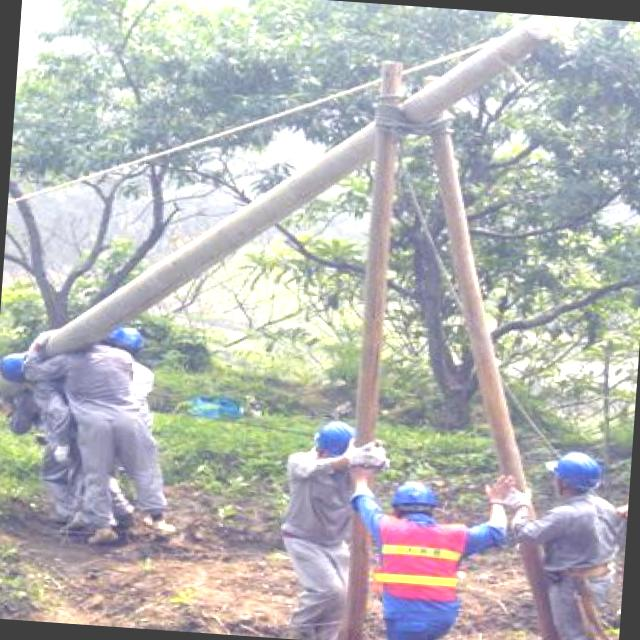helmet: (540, 448, 606, 495), (383, 477, 446, 521), (103, 324, 153, 359), (309, 419, 354, 456)
no-vest: (524, 493, 614, 588), (283, 461, 349, 544), (61, 348, 130, 415)
vest: (371, 510, 469, 606)
